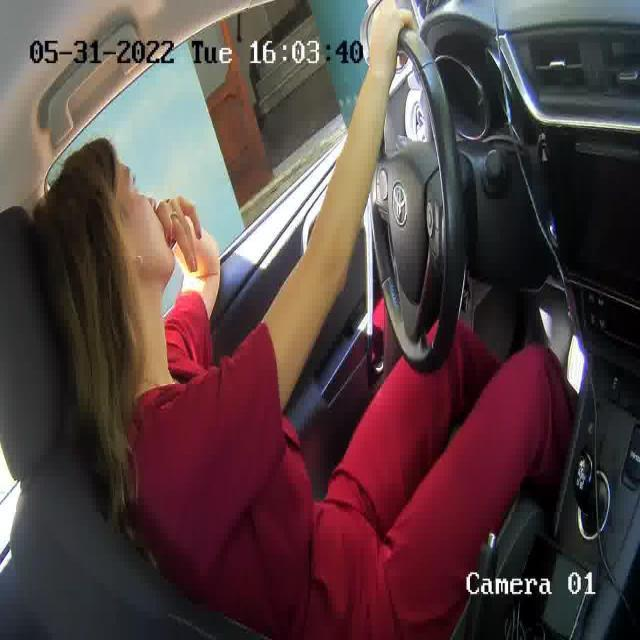Inattentive: (45, 135, 178, 294)
